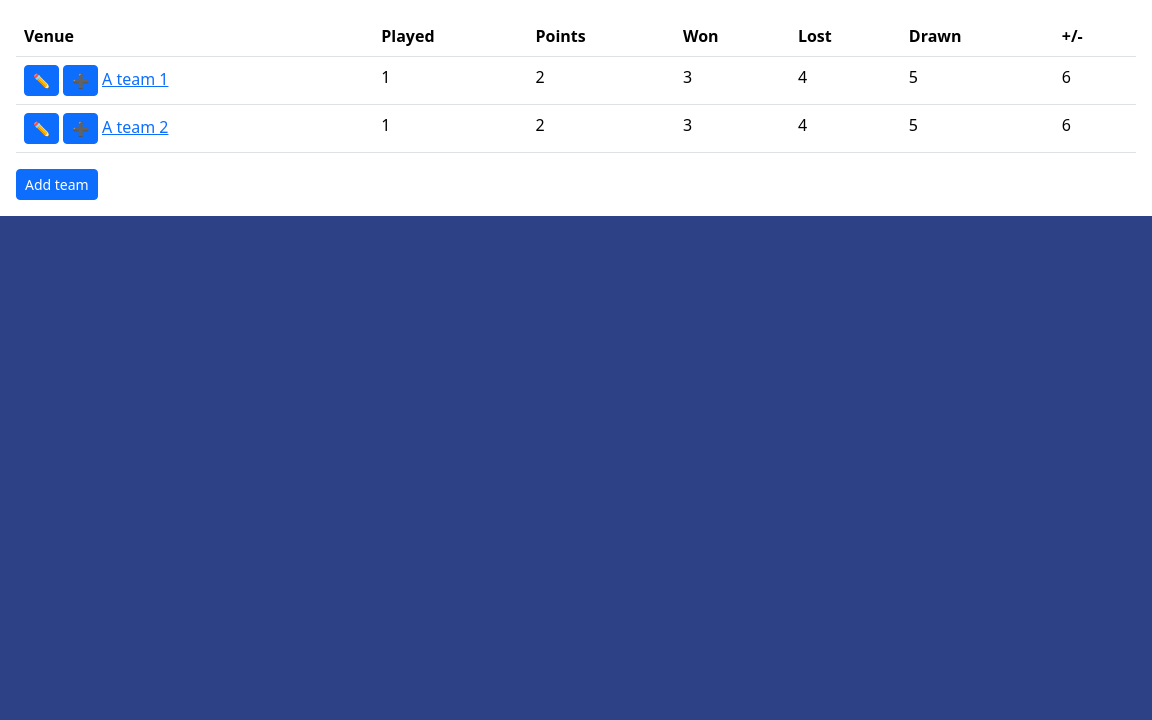
Test: DivisionTeams › when logged in › can close add team dialog
The width and height of the screenshot is (1152, 720).
Click the button "Add team".
click(57, 184)  # box [16,169,98,200]
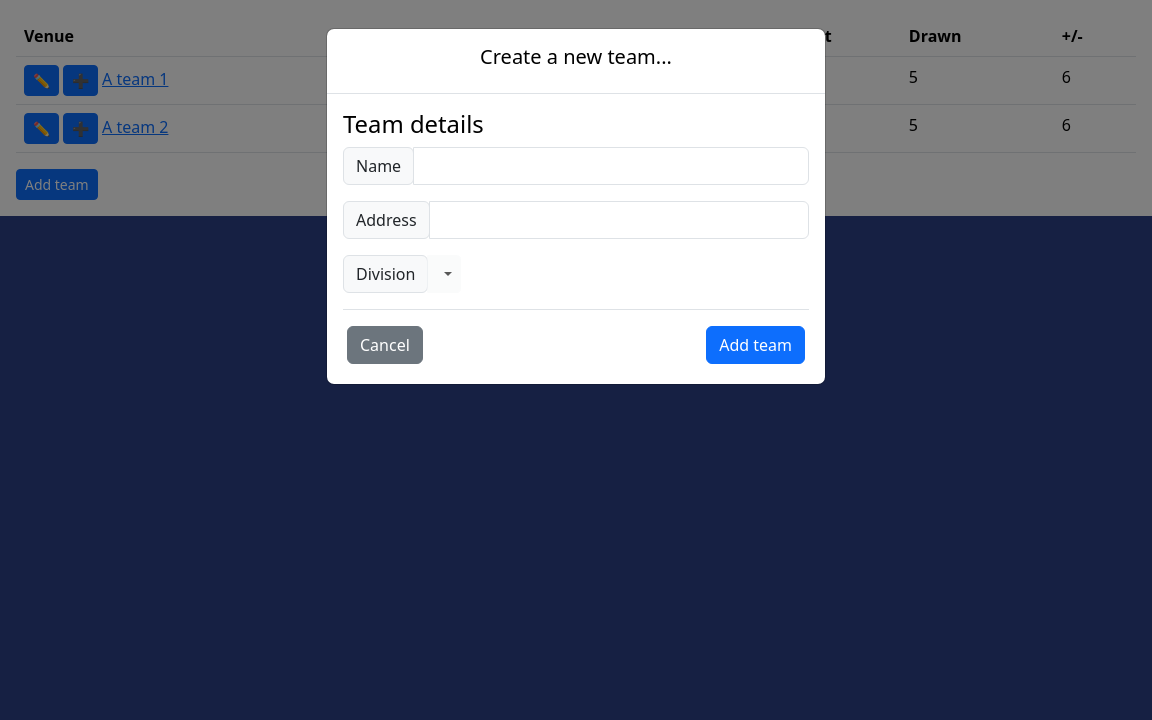
Check: the element with class "modal-dialog" is shown, box [326,28,826,385]
Click the button "Cancel".
click(385, 345)  # box [347,326,423,364]
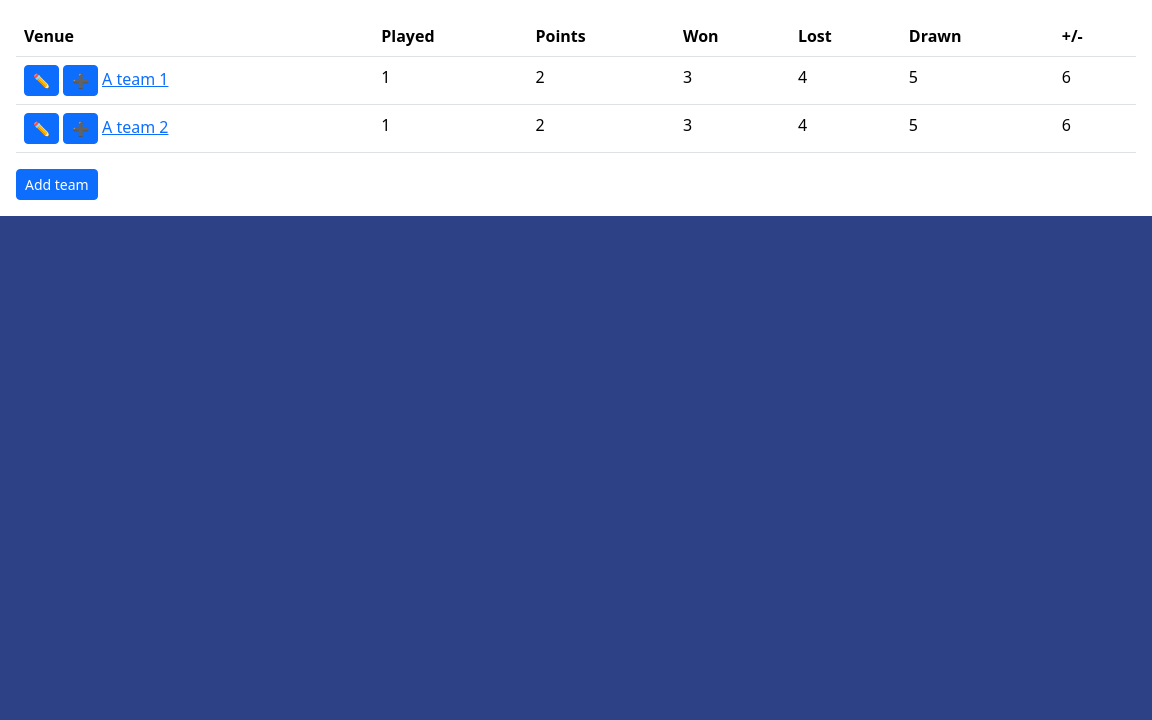
Check: the element with class "modal-dialog" is gone
